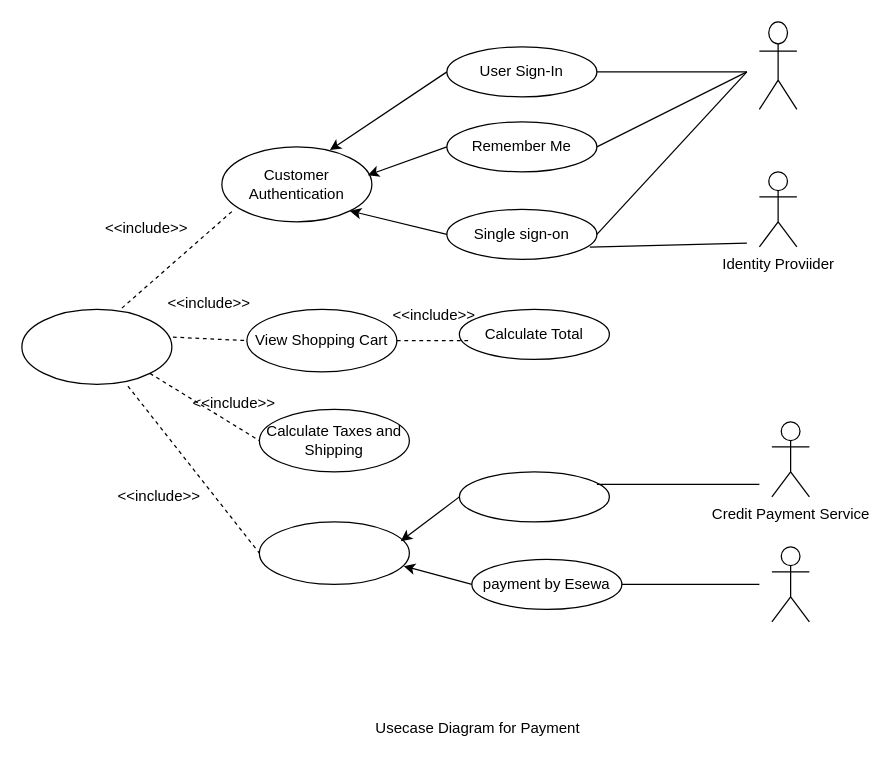
The diagram is 891 pixels wide and 769 high, and some of its shapes have lost their labels. Each missing label, with the box of its shape:
Checkout: (21, 308, 172, 384)
Esewa: (771, 546, 809, 622)
Payment: (258, 521, 409, 584)
Payment by Credit: (458, 471, 609, 522)
Service Authentication: (758, 21, 797, 109)
